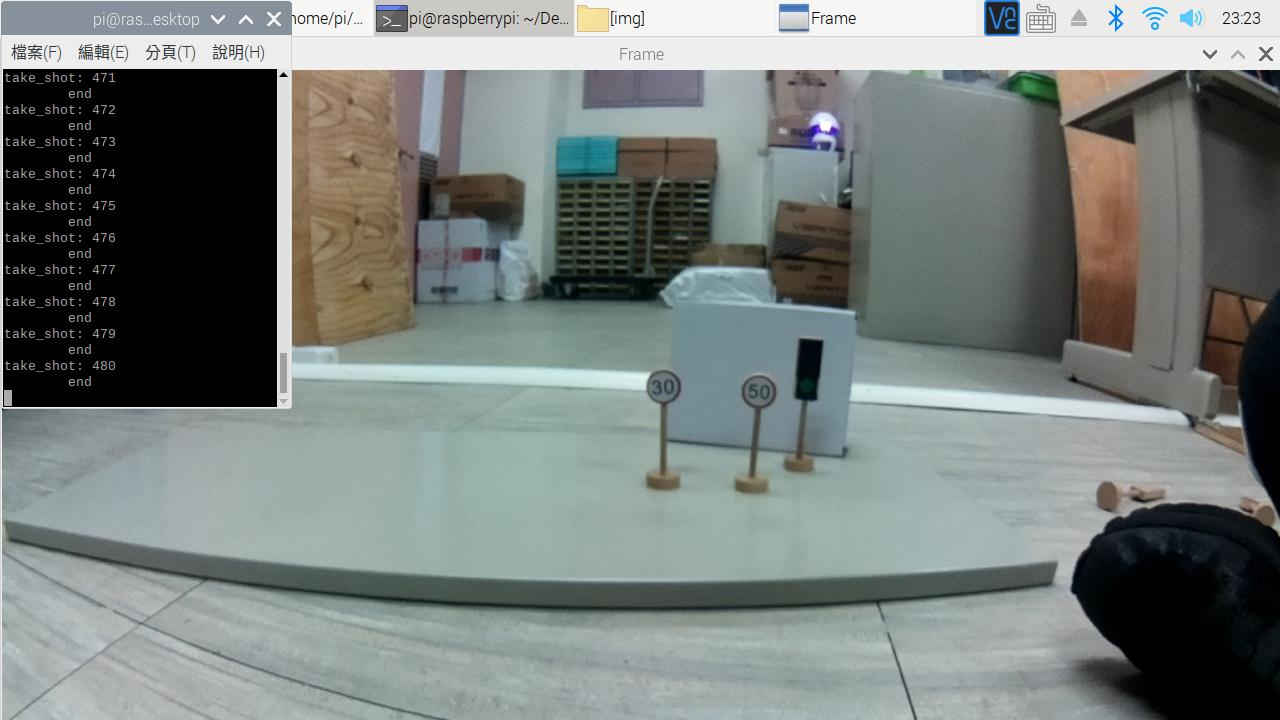Green: (791, 333, 829, 413)
Speed30: (642, 368, 694, 418)
Speed50: (734, 369, 779, 411)
